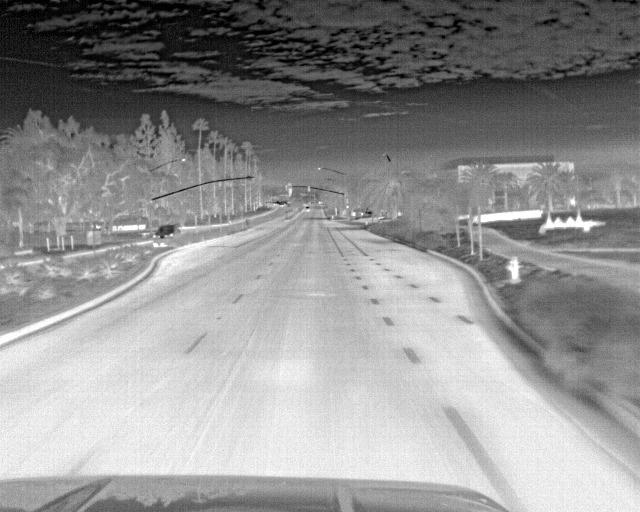car: (152, 225, 178, 246)
